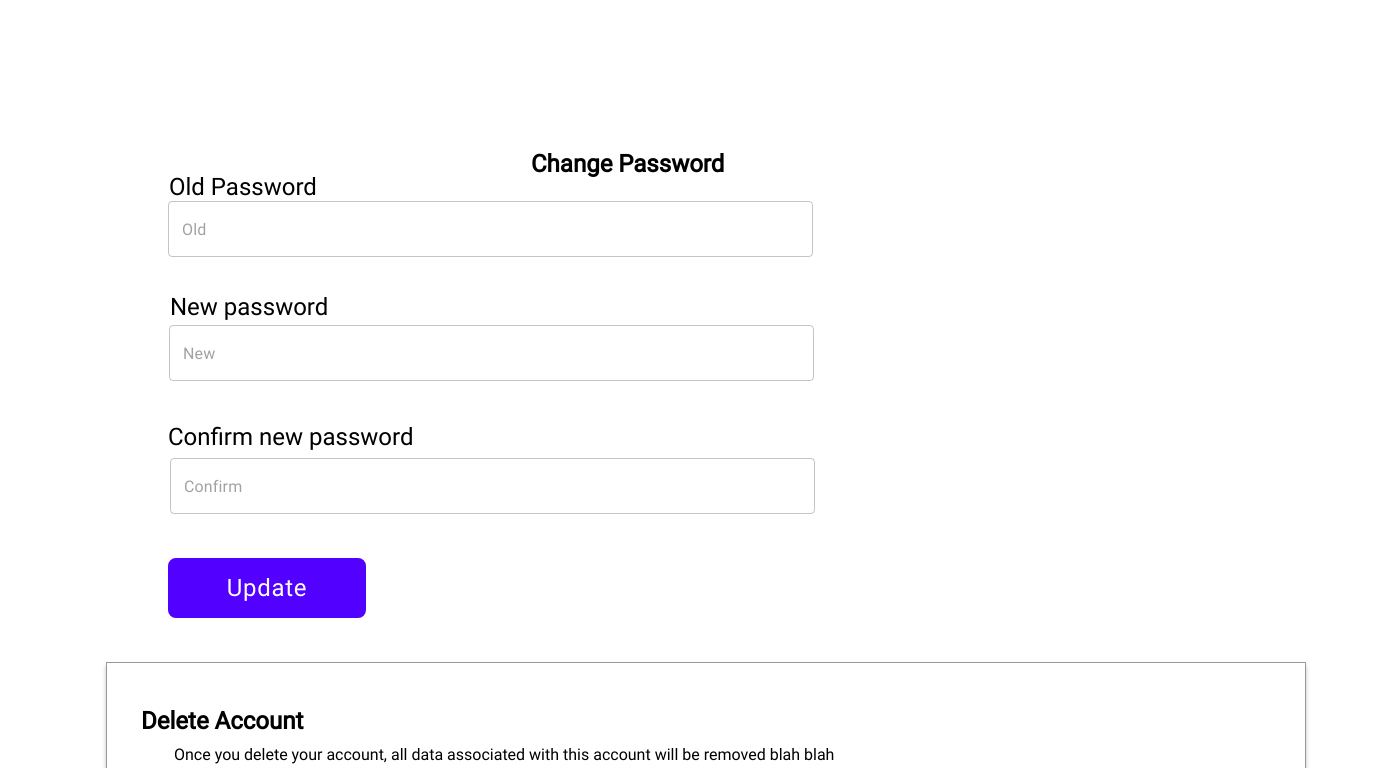
Settings Page UI Test › error update password do not match
Type "claire" into the field with placeholder "Old".
click(490, 229); type("claire")  # box [168,201,813,257]
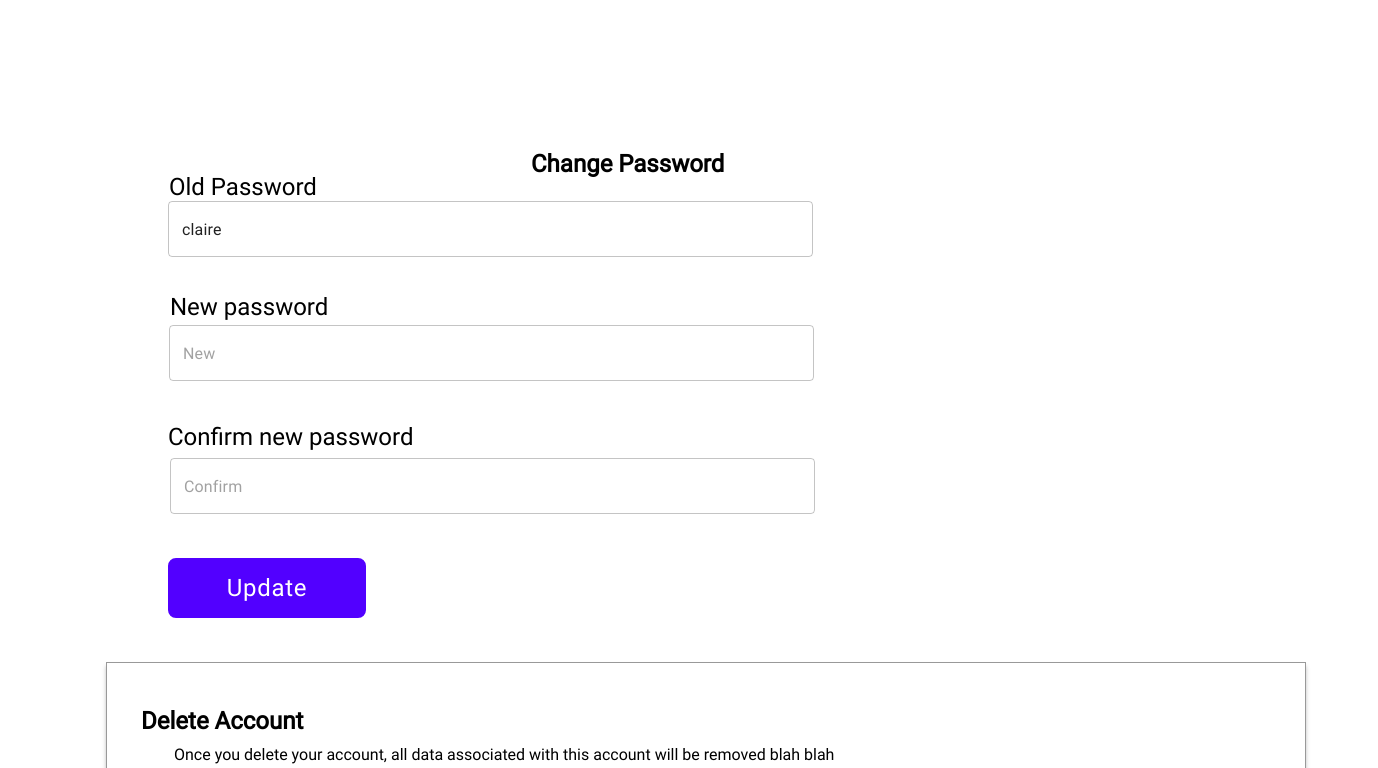
Type "james" into the field with placeholder "New".
click(492, 353); type("james")  # box [169,325,814,381]
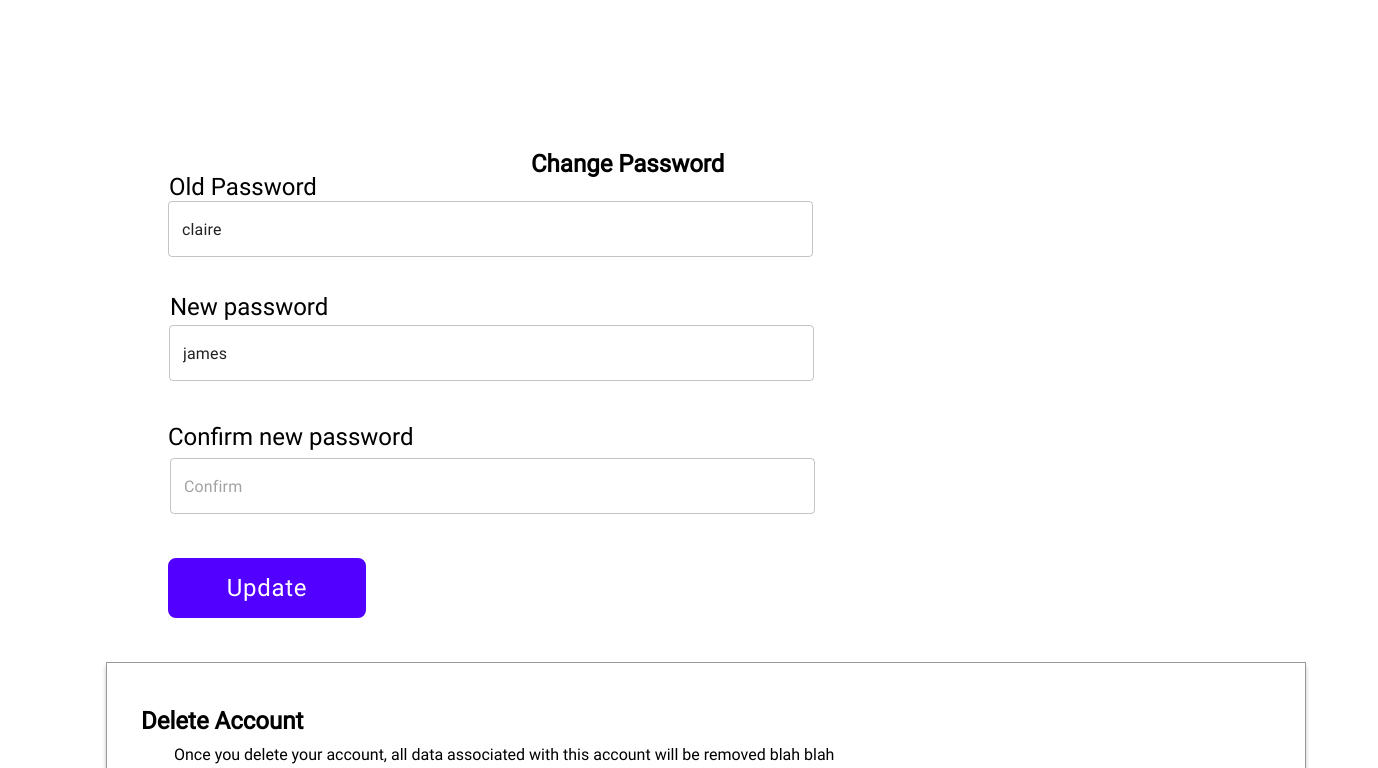
Type "jam" into the field with placeholder "Confirm".
click(492, 486); type("jam")  # box [170,458,815,514]
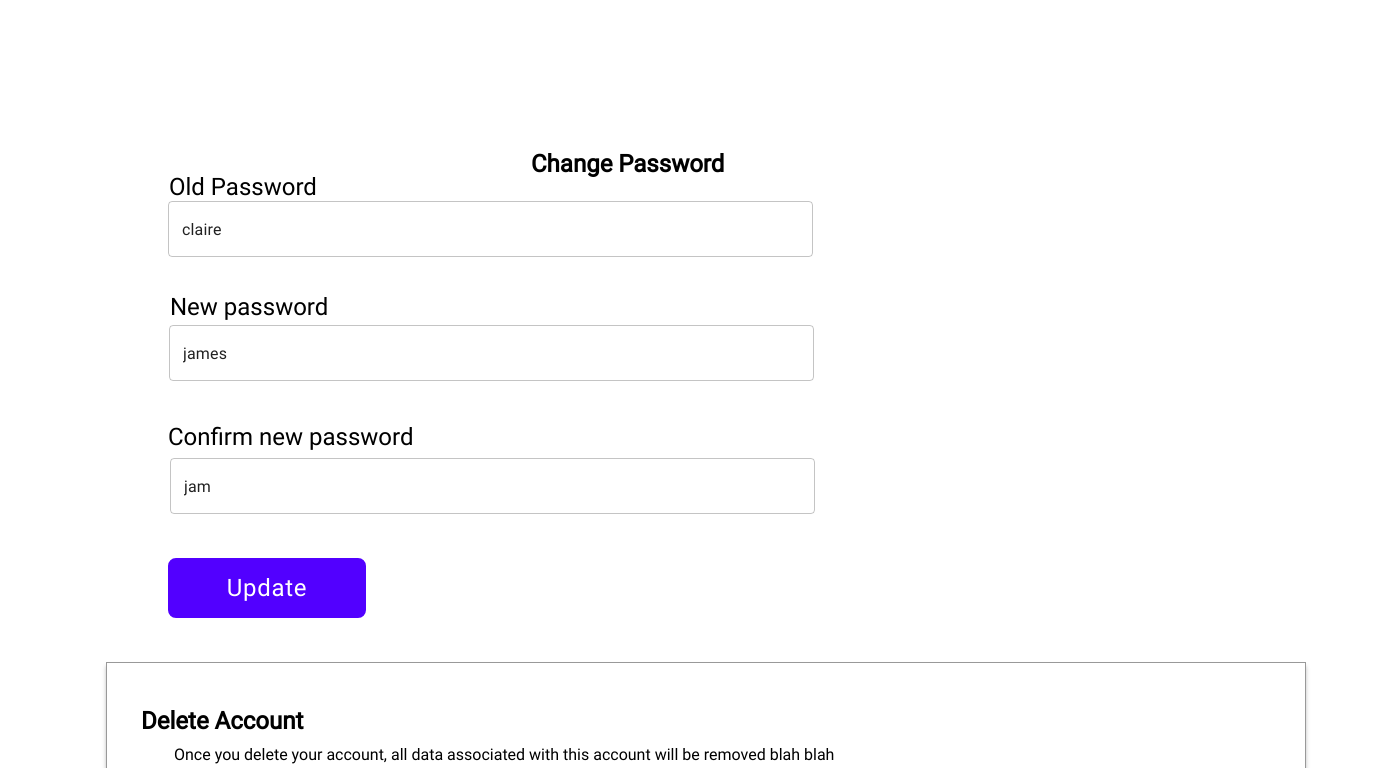
Click the button "Update".
click(267, 588)  # box [168,558,366,618]
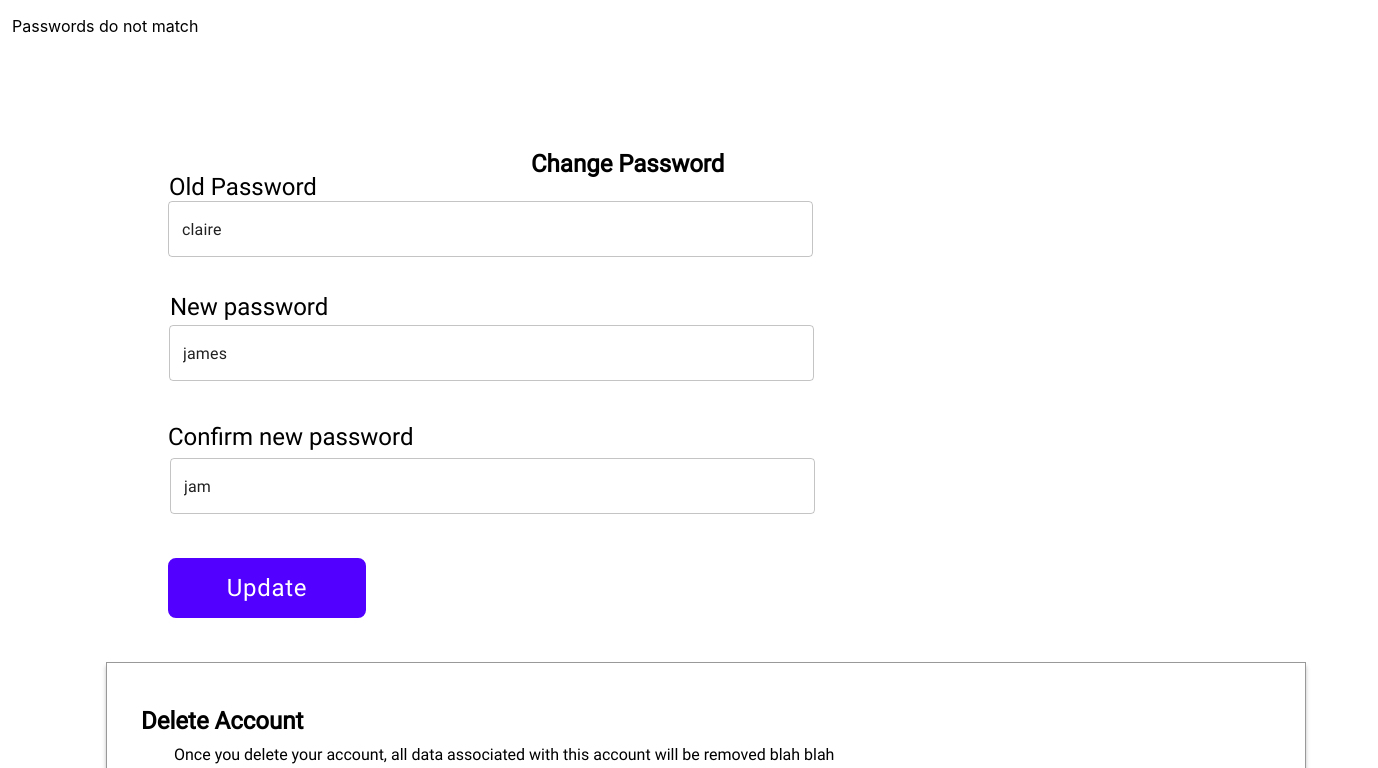
Now the text "Passwords do not match" is shown, box [12,16,198,36]
